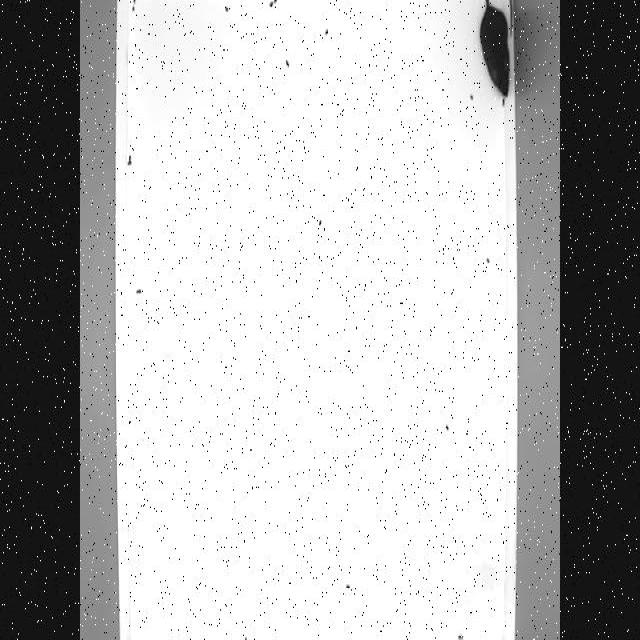rat: (476, 0, 515, 97)
